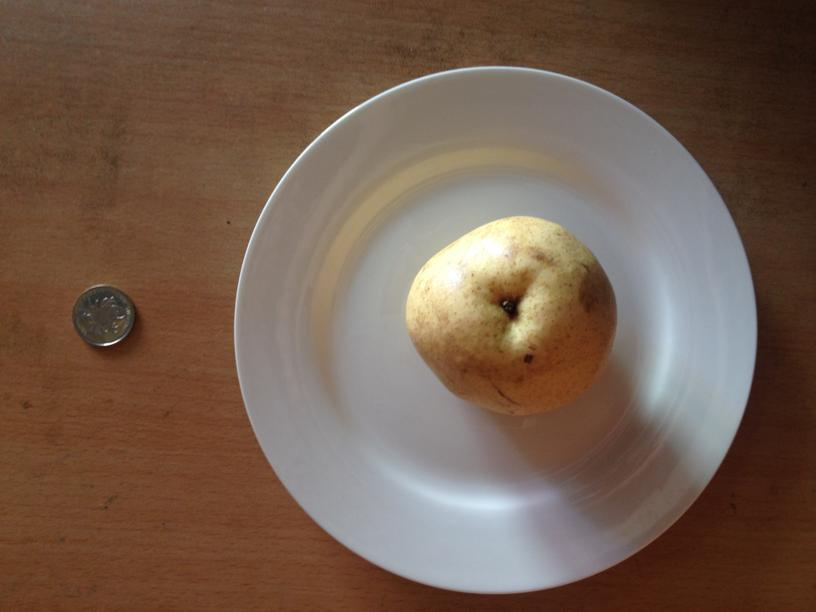coin: (71, 282, 136, 349)
pear: (407, 214, 617, 416)
